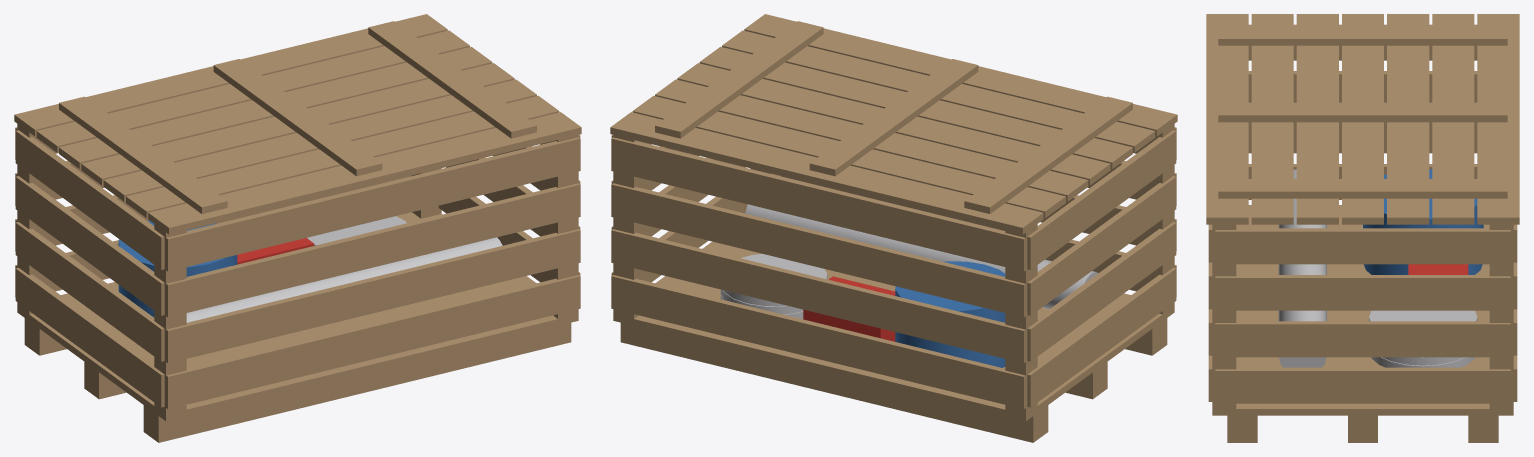
File: SM_SteelSparesCrate.fbx
The picture shows the model from 3 angles, left to right: view 1: azimuth 30°, elevation 25°; view 2: azimuth 150°, elevation 25°; view 3: azimuth 270°, elevation 25°; orthographic projection.
Parts seen in each view (by area): view 1: SSC_Crate, SSC_Lid, SSC_Contents; view 2: SSC_Crate, SSC_Lid, SSC_Contents; view 3: SSC_Lid, SSC_Crate, SSC_Contents.
Boxes of the visible parts, left/top/right/bottom form: SSC_Crate: left=15, top=124, right=580, bottom=442; SSC_Lid: left=14, top=14, right=581, bottom=234; SSC_Contents: left=118, top=216, right=502, bottom=322; SSC_Crate: left=611, top=124, right=1176, bottom=442; SSC_Lid: left=610, top=14, right=1177, bottom=234; SSC_Contents: left=720, top=204, right=1098, bottom=367; SSC_Lid: left=1206, top=14, right=1519, bottom=224; SSC_Crate: left=1208, top=24, right=1517, bottom=442; SSC_Contents: left=1278, top=169, right=1483, bottom=367.
Bounding box in the file's own units: 162 × 85 × 104.
